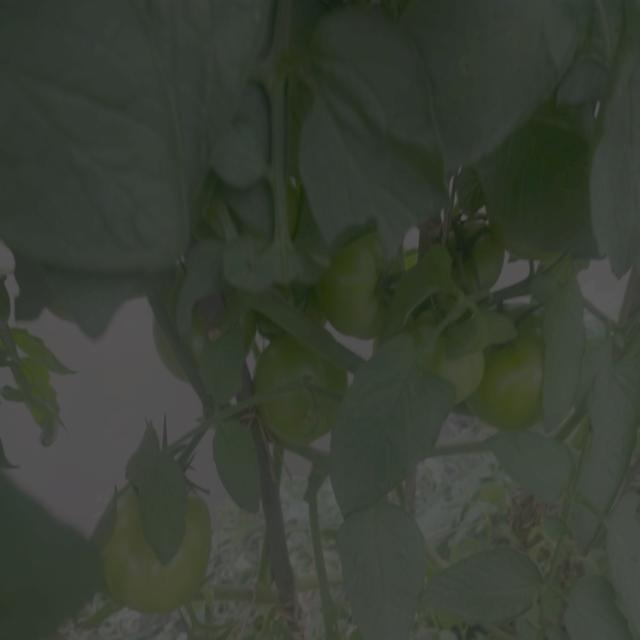tomato: (259, 331, 351, 451), (481, 333, 548, 437), (327, 231, 394, 331), (105, 499, 161, 616), (455, 203, 504, 296), (173, 515, 219, 611), (450, 338, 488, 403)
